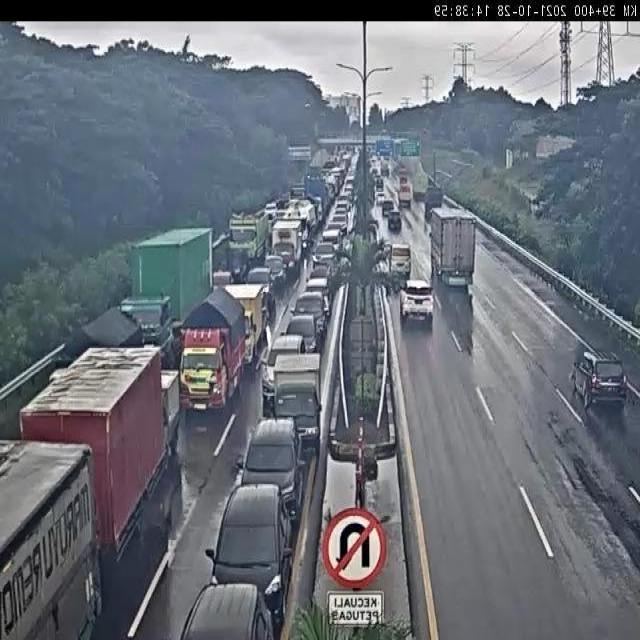Car: (202, 490, 296, 596), (181, 580, 273, 640), (243, 426, 306, 495), (570, 354, 626, 410), (263, 332, 306, 388), (396, 282, 437, 326), (249, 268, 280, 314), (284, 317, 322, 352), (294, 292, 330, 324), (305, 266, 332, 294), (309, 243, 338, 267), (387, 208, 406, 235), (374, 188, 392, 208), (381, 198, 395, 218)
Truck: (34, 351, 178, 549), (0, 438, 96, 634), (122, 227, 212, 333), (180, 291, 243, 409), (64, 308, 150, 372), (425, 208, 479, 286), (274, 361, 322, 428), (228, 285, 264, 360), (268, 216, 309, 267), (224, 209, 268, 256), (156, 366, 178, 450), (302, 170, 332, 212), (425, 180, 446, 217), (396, 175, 416, 210)
Van: (385, 240, 417, 279)
